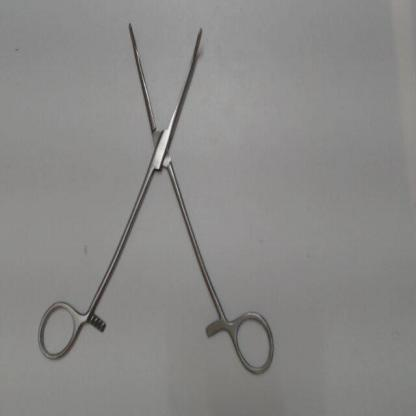Lahey Forceps: (25, 15, 280, 388)
